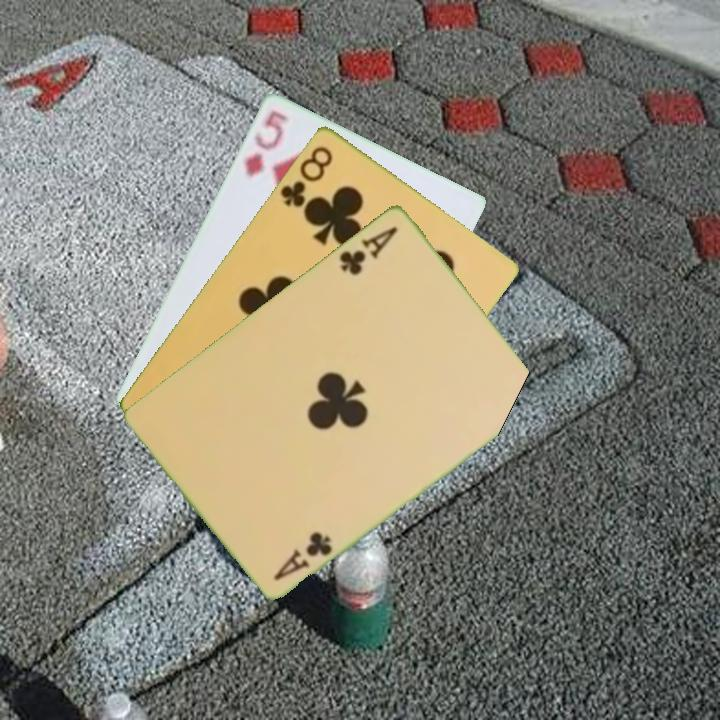5d: (240, 106, 292, 180)
8c: (276, 141, 336, 210)
Ac: (335, 222, 401, 278), (269, 527, 335, 583)
